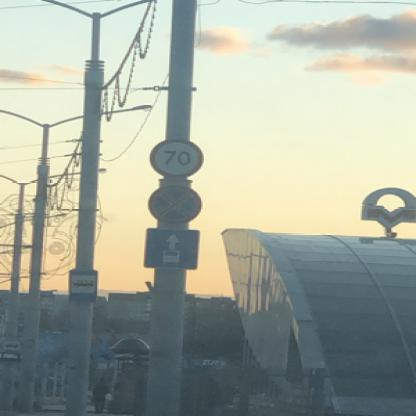speedlimit: (147, 136, 201, 176)
